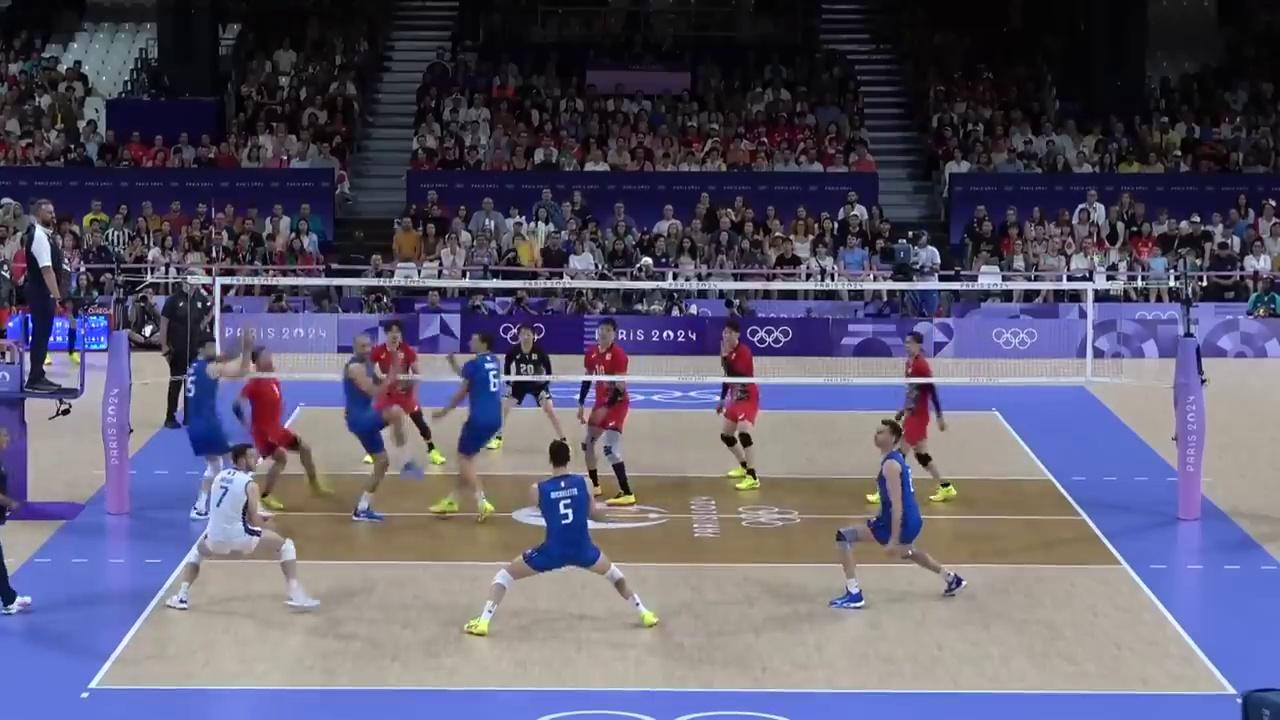ball: (518, 242, 540, 267)
